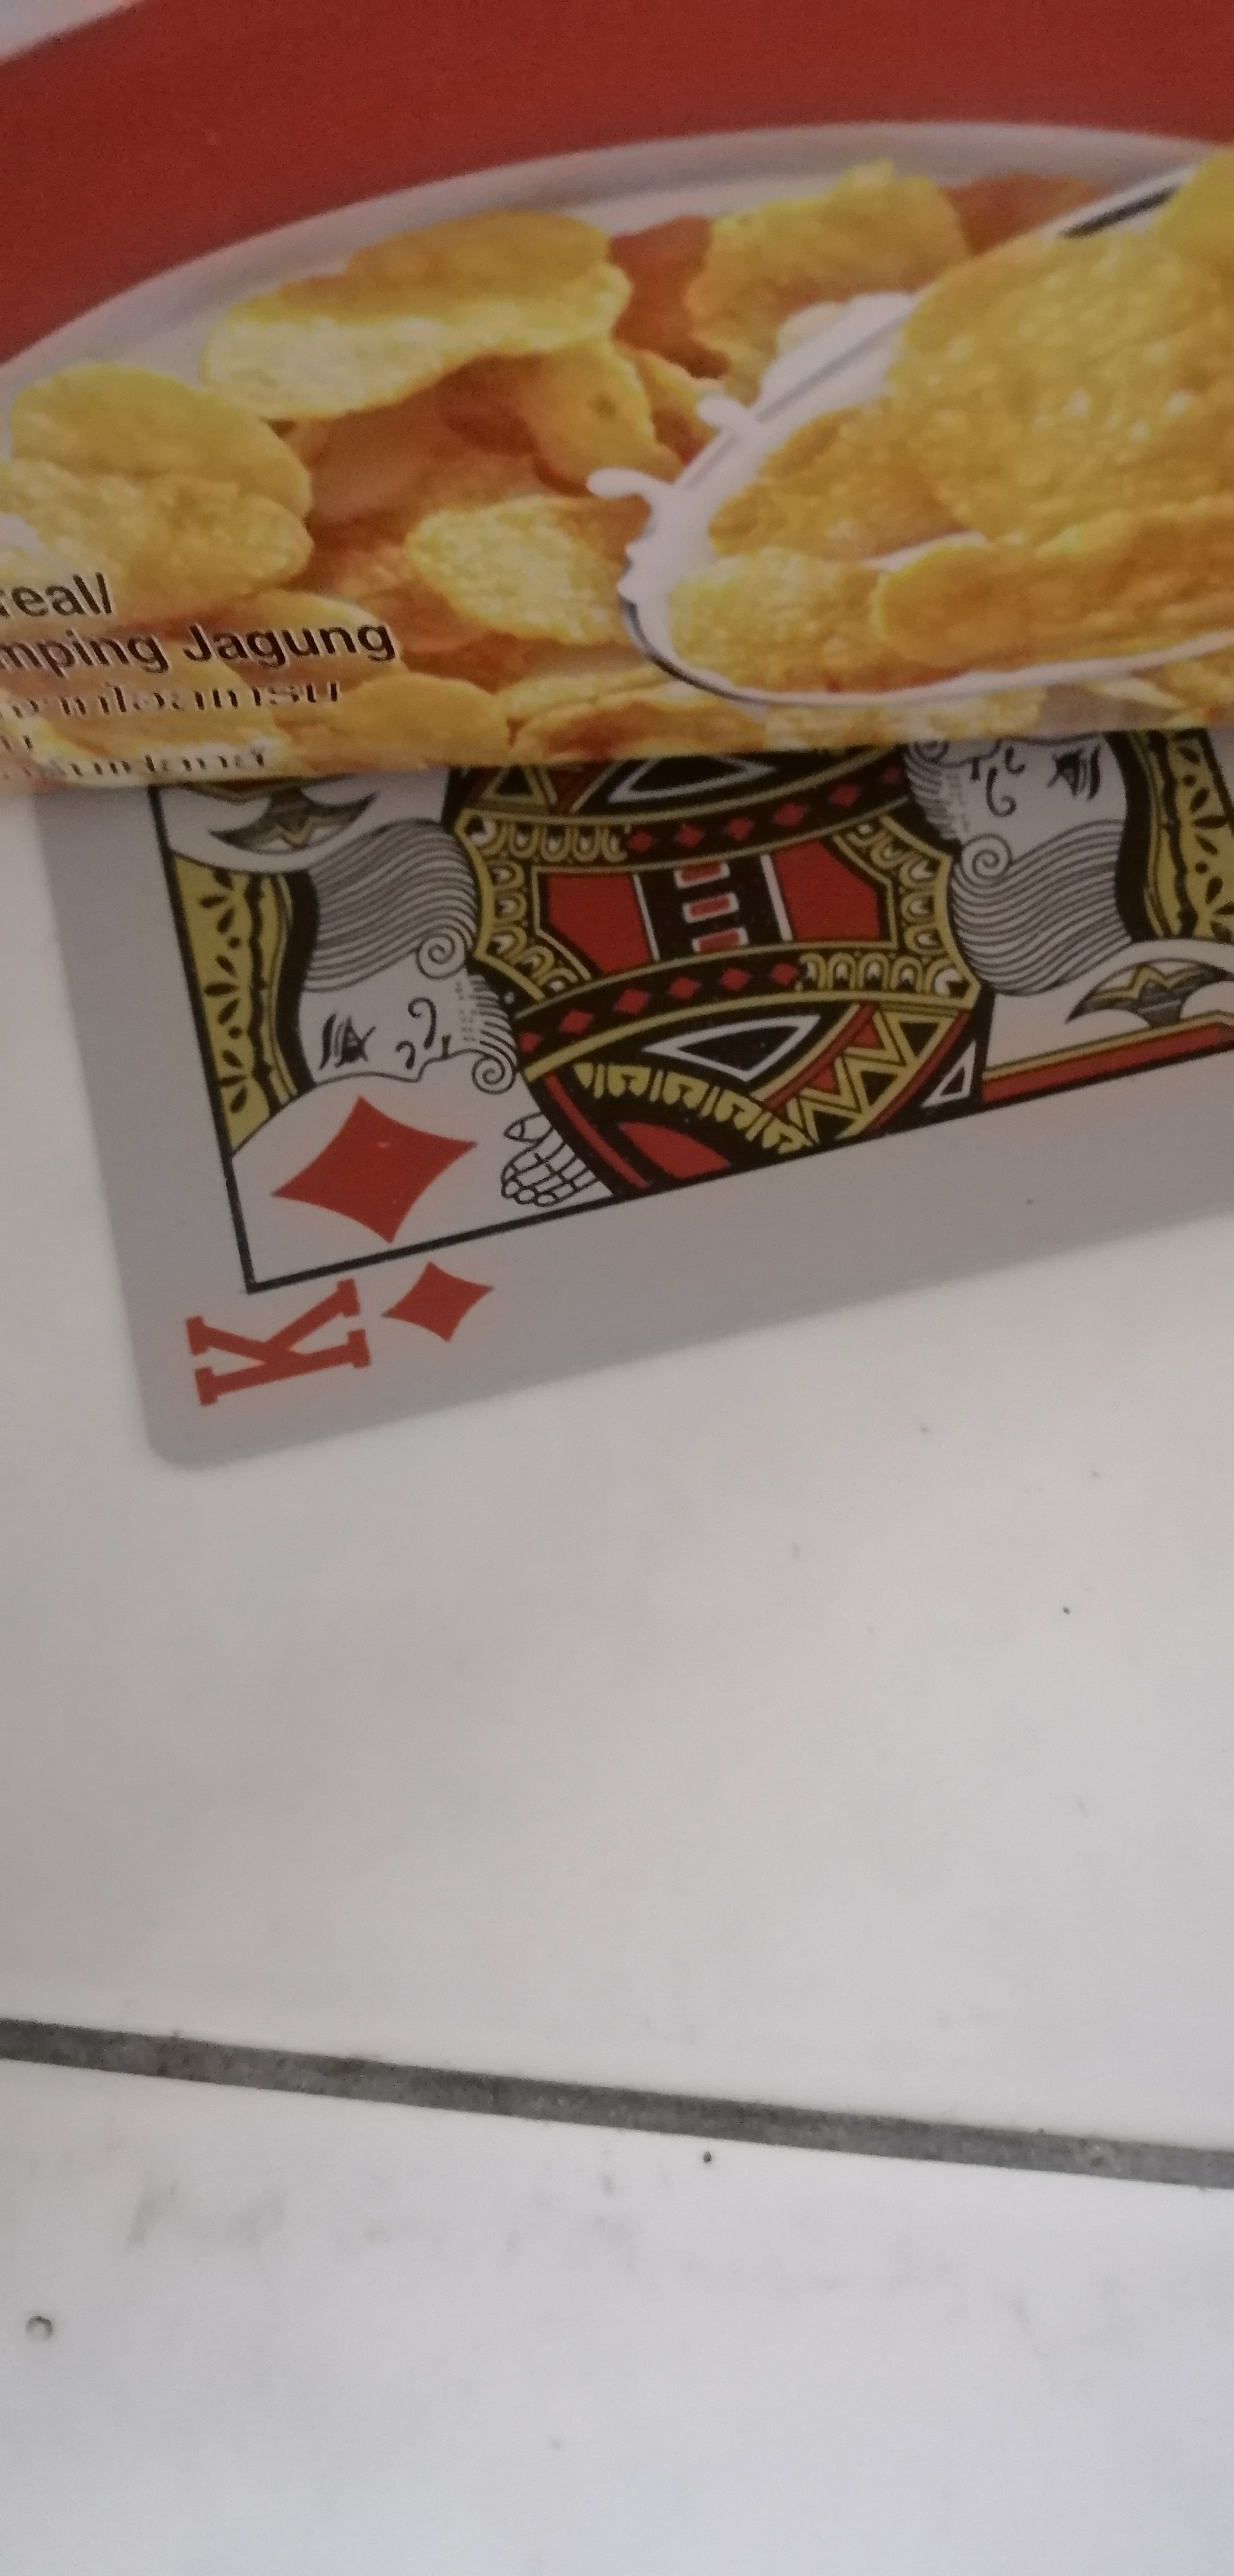king: (8, 734, 1234, 1441)
